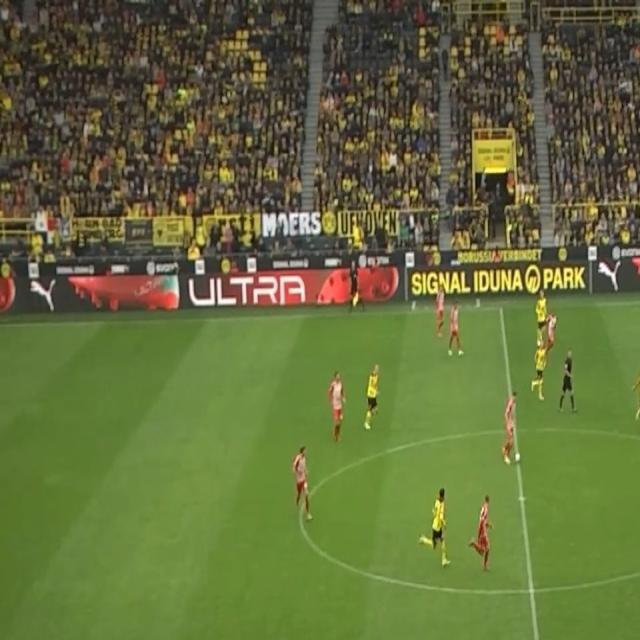ball: (514, 451, 522, 465)
